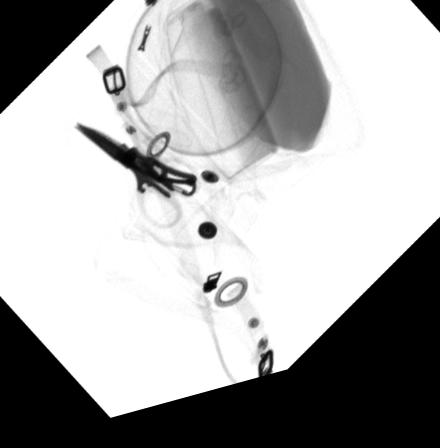Scissors: (72, 124, 198, 238)
